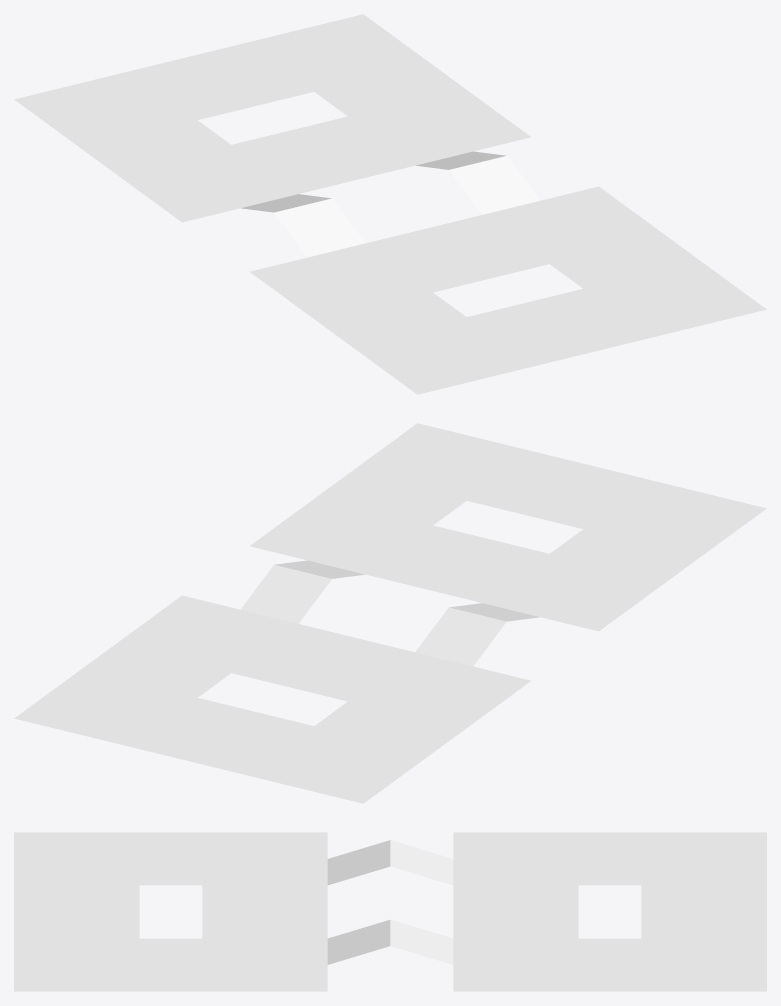
File: data_Med.obj
The picture shows the model from 3 angles, top to bottom: view 1: azimuth 30°, elevation 25°; view 2: azimuth 150°, elevation 25°; view 3: azimuth 270°, elevation 25°; orthographic projection. The views are drawn at different scales.
Parts seen in each view (by area): view 1: piece_0023, piece_0022, piece_0014, piece_0027, piece_001B, piece_0018, piece_0016, piece_0011, piece_000F, piece_000E, piece_0009, piece_0004 (+48 smaller); view 2: piece_0003, piece_0002, piece_0012, piece_0025, piece_001F, piece_0019, piece_0018, piece_0016, piece_000F, piece_000E, piece_000D, piece_0006 (+48 smaller); view 3: piece_0003, piece_0002, piece_0023, piece_0022, piece_001C, piece_001A, piece_000C, piece_000A, piece_0006, piece_0004, piece_003A, piece_0038 (+48 smaller).
Part boxes in pixels (x1=…): piece_0023: x1=274, y1=198, x2=365, y2=257; piece_0022: x1=449, y1=156, x2=540, y2=214; piece_0014: x1=323, y1=141, x2=414, y2=179; piece_0027: x1=366, y1=229, x2=457, y2=267; piece_001B: x1=314, y1=77, x2=405, y2=116; piece_0018: x1=406, y1=88, x2=497, y2=126; piece_0016: x1=440, y1=112, x2=530, y2=151; piece_0011: x1=173, y1=145, x2=264, y2=183; piece_000F: x1=115, y1=159, x2=206, y2=197; piece_000E: x1=149, y1=183, x2=239, y2=222; piece_0009: x1=72, y1=71, x2=163, y2=109; piece_0004: x1=222, y1=67, x2=313, y2=105; piece_0003: x1=415, y1=607, x2=506, y2=666; piece_0002: x1=240, y1=565, x2=331, y2=623; piece_0012: x1=323, y1=638, x2=414, y2=676; piece_0025: x1=366, y1=550, x2=457, y2=588; piece_001F: x1=72, y1=708, x2=163, y2=746; piece_0019: x1=173, y1=634, x2=264, y2=672; piece_0018: x1=115, y1=620, x2=206, y2=658; piece_0016: x1=149, y1=595, x2=239, y2=634; piece_000F: x1=406, y1=691, x2=497, y2=729; piece_000E: x1=440, y1=666, x2=530, y2=705; piece_000D: x1=314, y1=701, x2=405, y2=740; piece_0006: x1=222, y1=712, x2=313, y2=750; piece_0003: x1=390, y1=840, x2=453, y2=885; piece_0002: x1=390, y1=919, x2=453, y2=964; piece_0023: x1=327, y1=840, x2=390, y2=885; piece_0022: x1=327, y1=920, x2=390, y2=964; piece_001C: x1=641, y1=965, x2=704, y2=991; piece_001A: x1=578, y1=965, x2=641, y2=991; piece_000C: x1=578, y1=832, x2=641, y2=858; piece_000A: x1=641, y1=832, x2=704, y2=858; piece_0006: x1=641, y1=885, x2=704, y2=911; piece_0004: x1=641, y1=912, x2=704, y2=938; piece_003A: x1=139, y1=965, x2=202, y2=991; piece_0038: x1=76, y1=965, x2=139, y2=991.
Size of the model in its own units: 46.08 by 2.56 by 92.16.
Materials: 1 (1 with a texture image).
